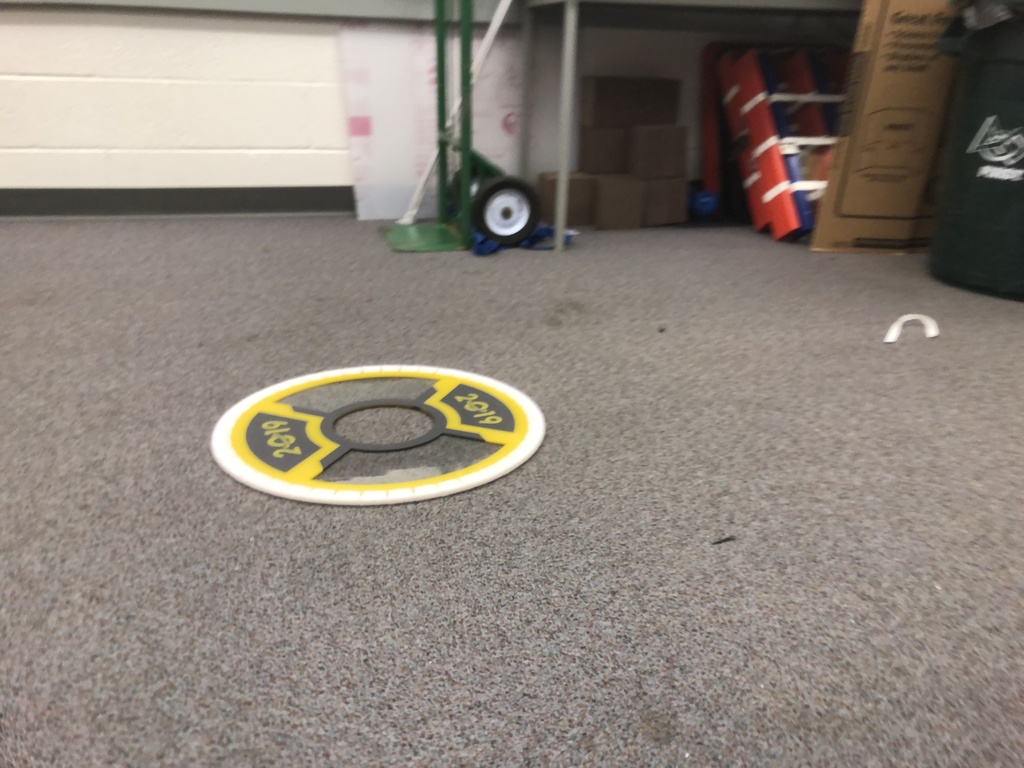hatch_panel: (189, 356, 562, 507)
